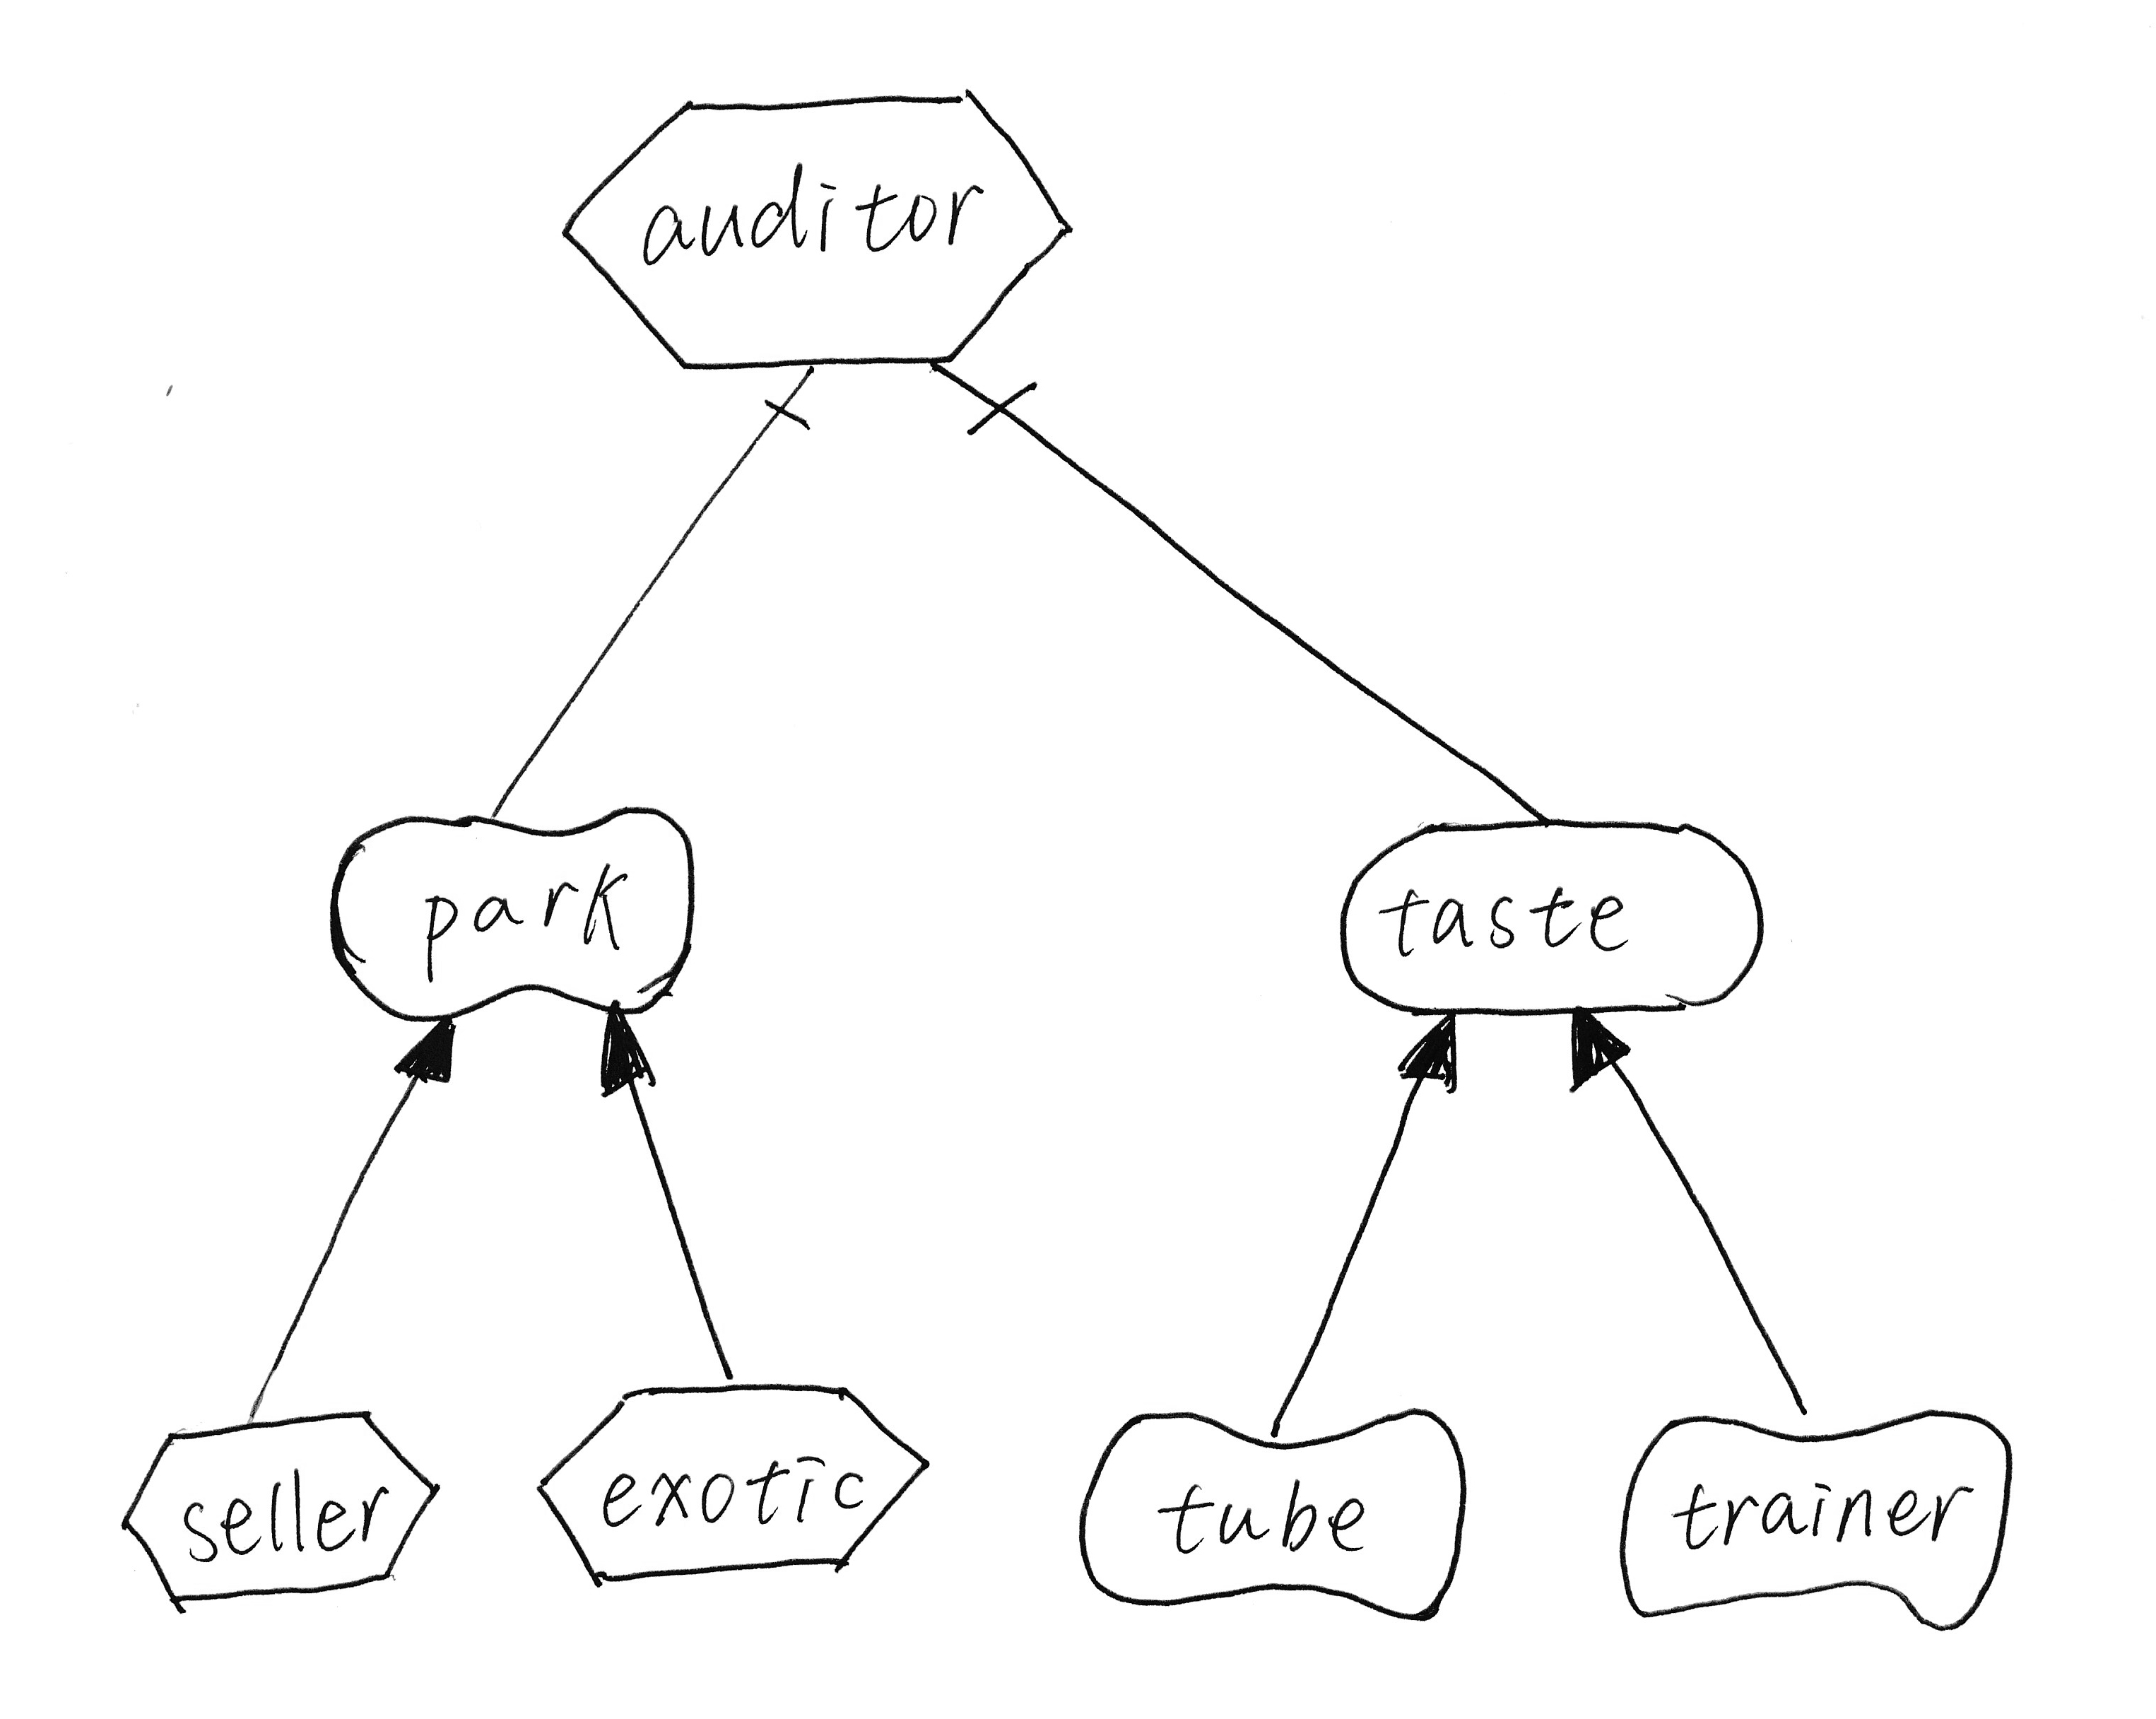and: (915, 337, 1059, 456), (736, 351, 843, 442)
goal: (1318, 795, 1781, 1044)
or: (578, 986, 685, 1116), (1376, 991, 1490, 1102), (1550, 991, 1642, 1110), (375, 998, 473, 1102)
quality: (1602, 1386, 2032, 1647), (1060, 1384, 1493, 1642), (307, 779, 720, 1042)
task: (538, 63, 1099, 393), (510, 1363, 945, 1605), (109, 1391, 461, 1623)
